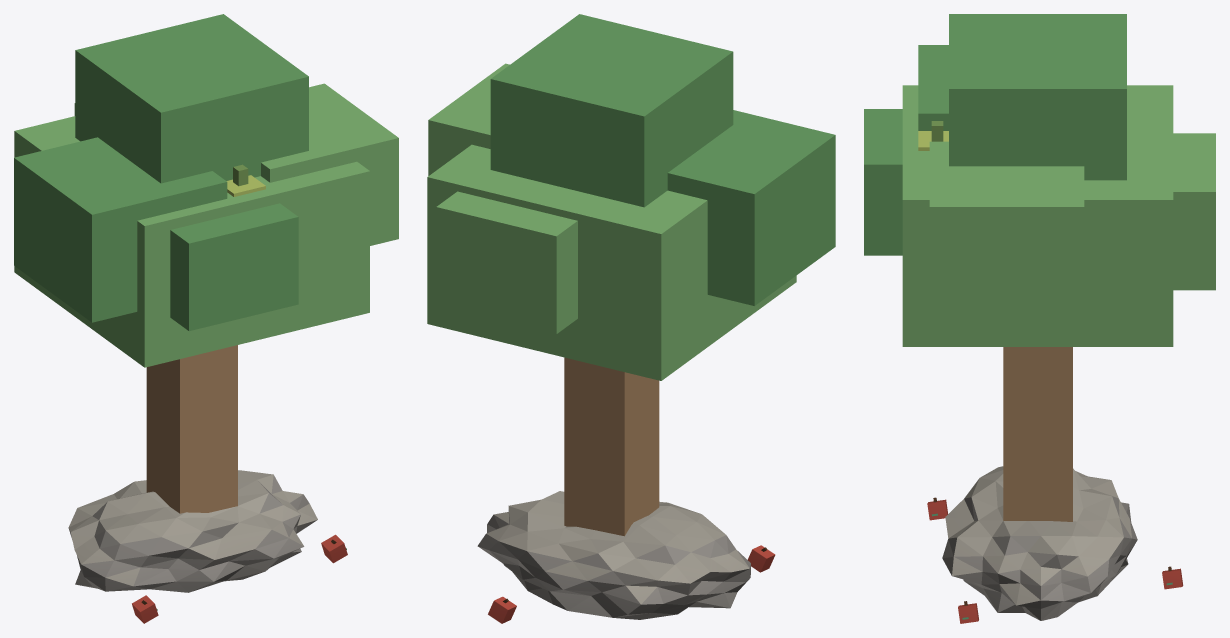
Rendered from great-pear-tree.glb.
3 renders of one model, left to right at view 1: azimuth 30°, elevation 25°; view 2: azimuth 150°, elevation 25°; view 3: azimuth 270°, elevation 25°, orthographic. The views are drawn at different scales.
Parts seen in each view (by area): view 1: great-pear-tree_body; view 2: great-pear-tree_body; view 3: great-pear-tree_body.
Part boxes in pixels (<box>): great-pear-tree_body: <box>14,14,398,623</box>; great-pear-tree_body: <box>427,14,835,623</box>; great-pear-tree_body: <box>864,14,1215,623</box>.
Size of the model in its own units: 7.35 by 11.2 by 6.89.
